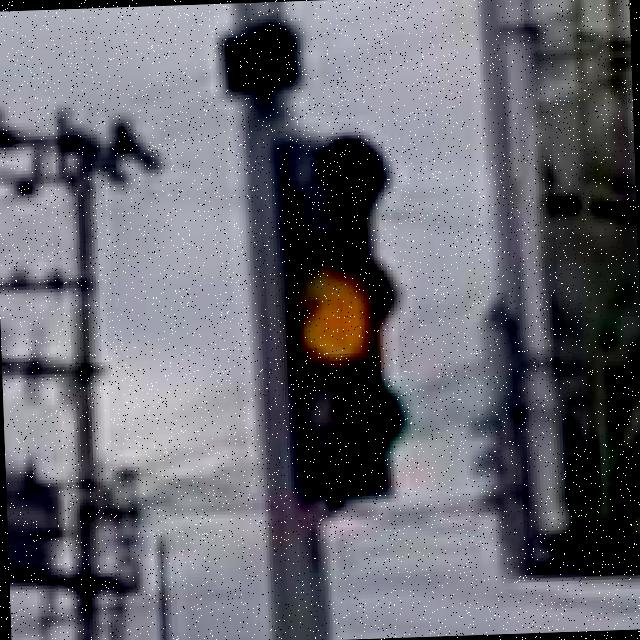Zolte swiatlo: (272, 130, 408, 506)
